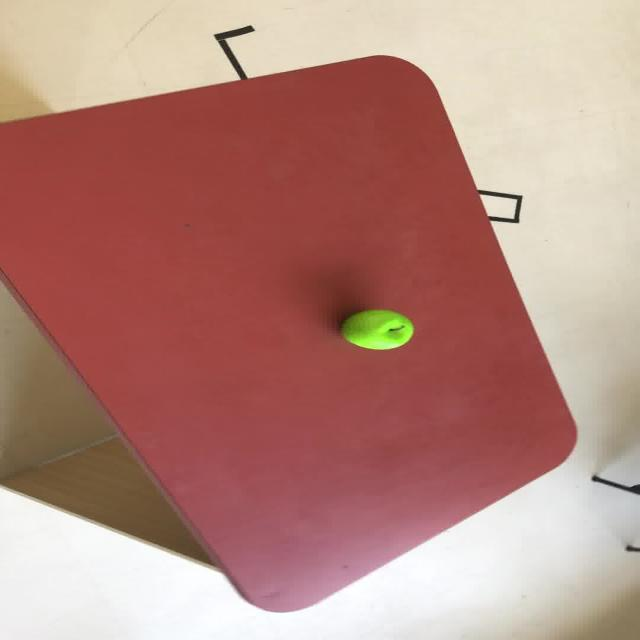apple: (340, 309, 414, 350)
